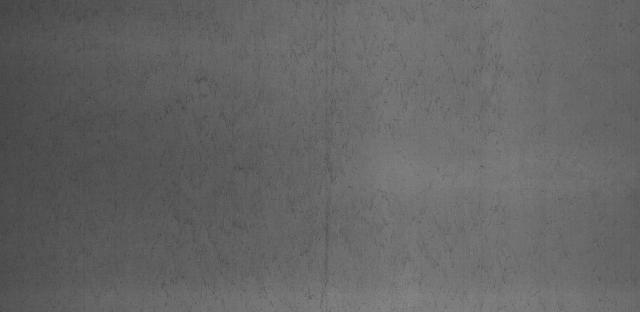silk_spot: (347, 13, 624, 288), (127, 21, 337, 238)
